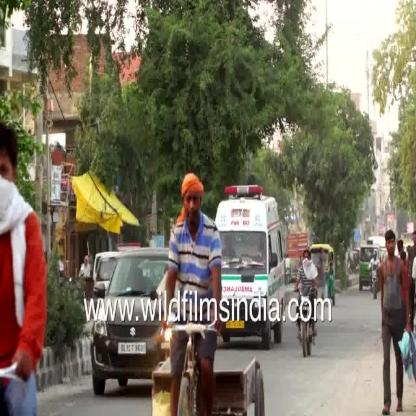priority: (216, 182, 283, 299)
